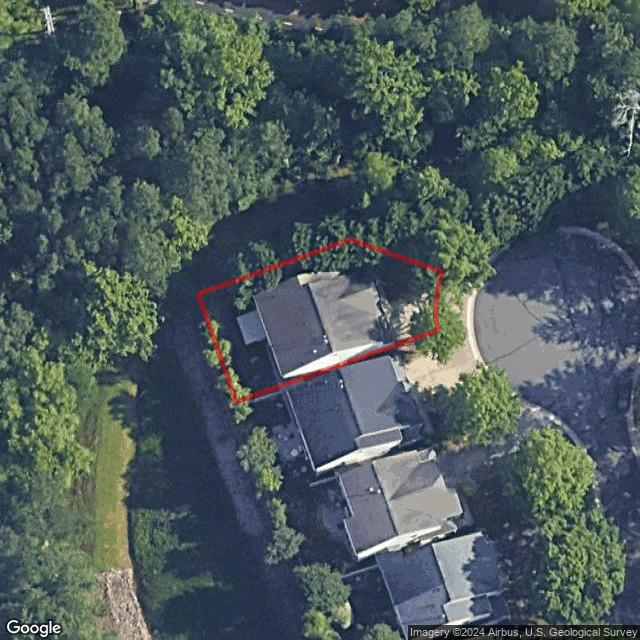Driveway: (378, 292, 438, 344)
Extra-Driveway: (436, 292, 471, 330)
Extra-Lawn: (436, 270, 478, 293)
House: (251, 270, 393, 378)
Lawn: (198, 241, 441, 402)
Other: (235, 310, 265, 345)
Sidewalk: (350, 273, 388, 298)
